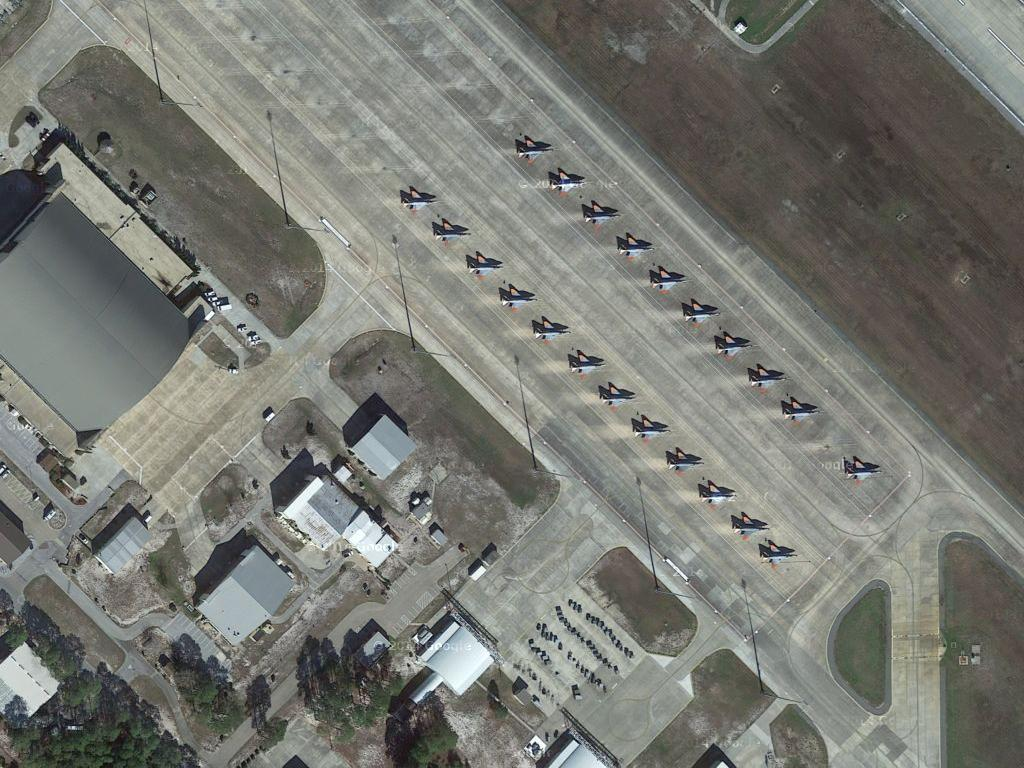plane: (839, 453, 889, 490), (774, 393, 824, 428), (562, 348, 610, 382), (541, 165, 589, 199), (510, 134, 559, 167), (396, 185, 444, 217), (646, 265, 695, 296), (745, 364, 791, 397), (680, 295, 723, 330), (754, 538, 801, 570), (706, 330, 756, 360), (528, 316, 573, 348), (595, 380, 640, 412), (694, 481, 742, 511), (496, 283, 540, 315), (430, 217, 475, 248), (630, 414, 675, 445), (611, 232, 656, 263), (727, 512, 775, 541), (577, 201, 624, 230), (462, 251, 505, 282), (662, 448, 706, 477)
